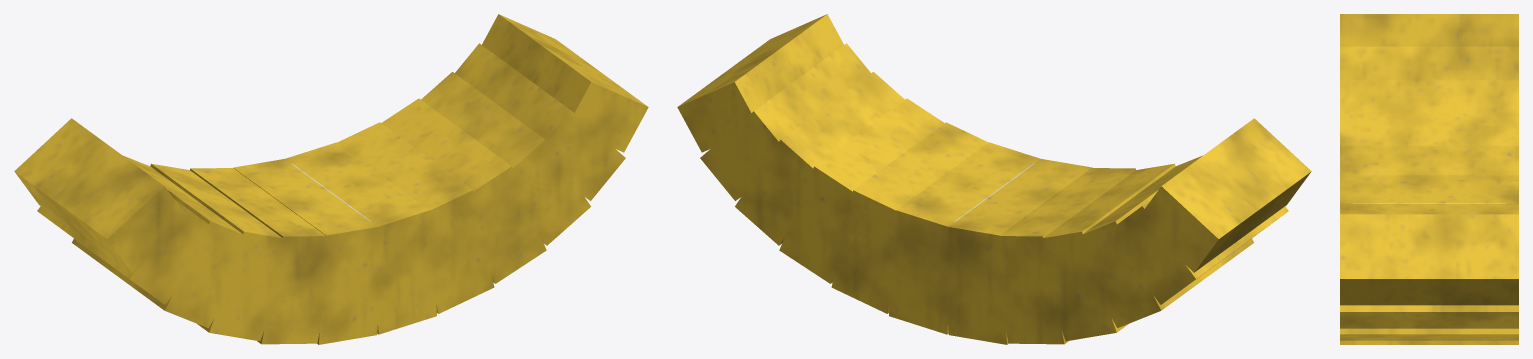
Rendered from Prop_MoonBoat.fbx.
3 views of the same model, side by side, from view 1: azimuth 30°, elevation 25°; view 2: azimuth 150°, elevation 25°; view 3: azimuth 270°, elevation 25° (orthographic). The views are drawn at different scales.
Visible parts, largest first — view 1: Hull; view 2: Hull; view 3: Hull.
Part boxes in pixels (box(x1,y1,x2,y2)): Hull: box(14, 14, 648, 344); Hull: box(677, 14, 1311, 344); Hull: box(1340, 14, 1518, 344).
Bounding box in the file's own units: 4.71 × 1.67 × 1.4.
